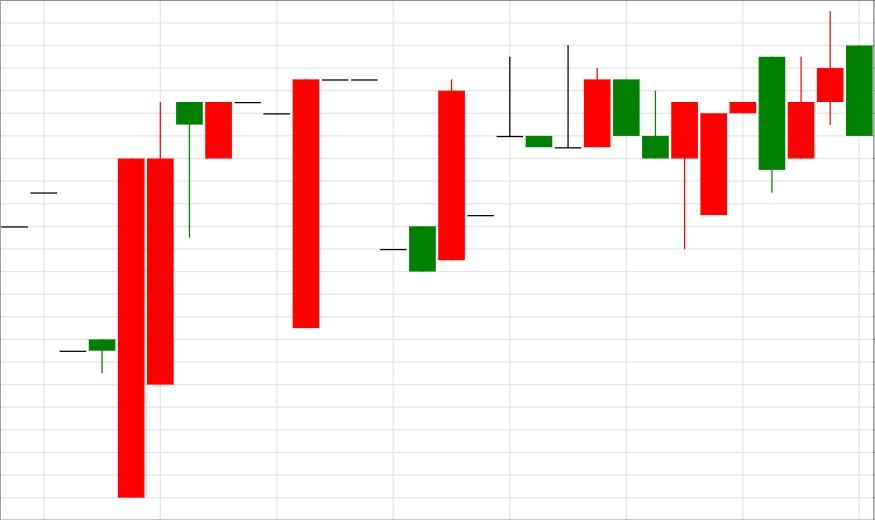hanging_man_fall: (118, 102, 203, 498)
inverse_hammer_rise: (497, 44, 669, 159)
